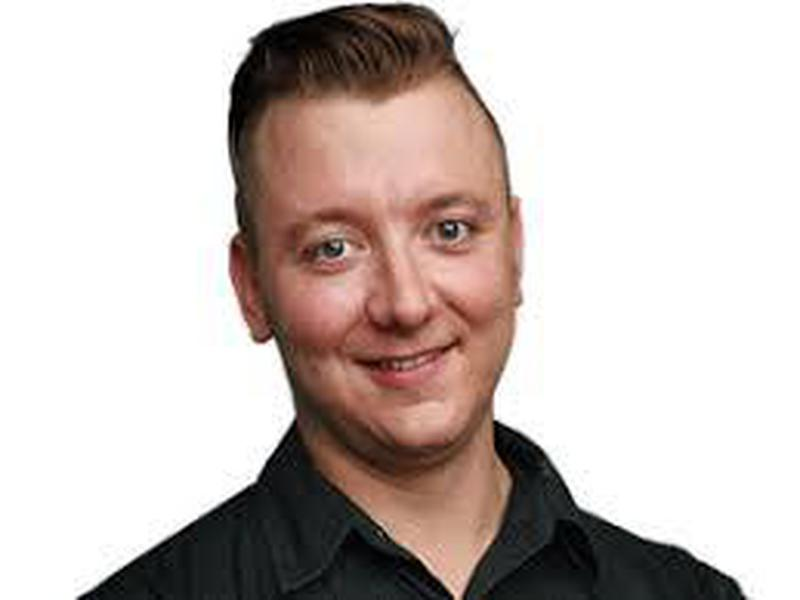without_mask: (236, 95, 516, 459)
